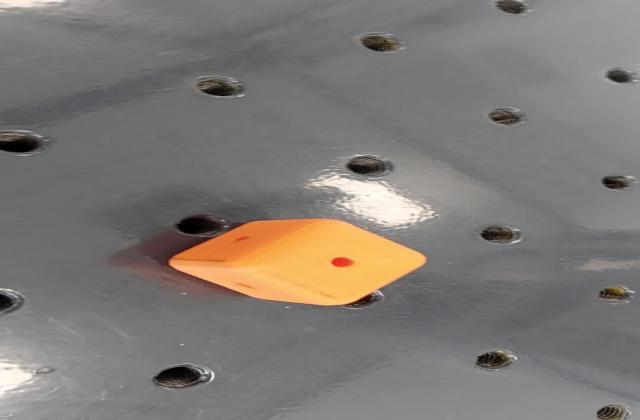cube: (157, 214, 434, 308)
